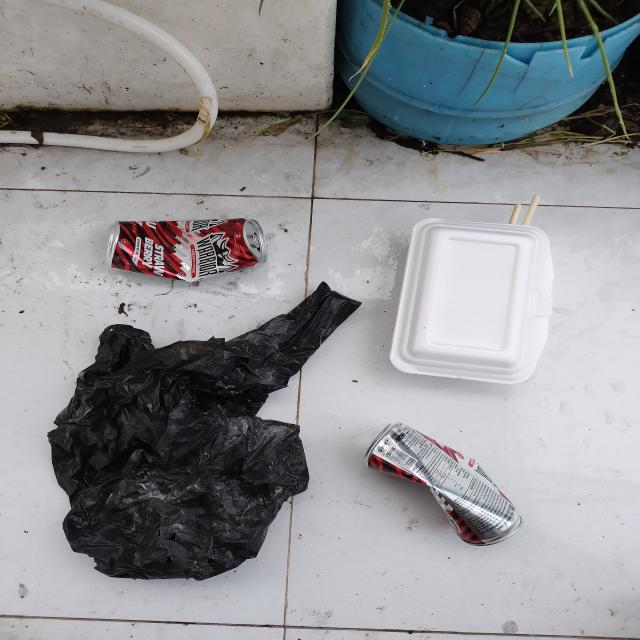bag: (48, 281, 364, 582)
can: (364, 420, 526, 545), (107, 217, 269, 283)
foam box: (390, 218, 552, 384)
